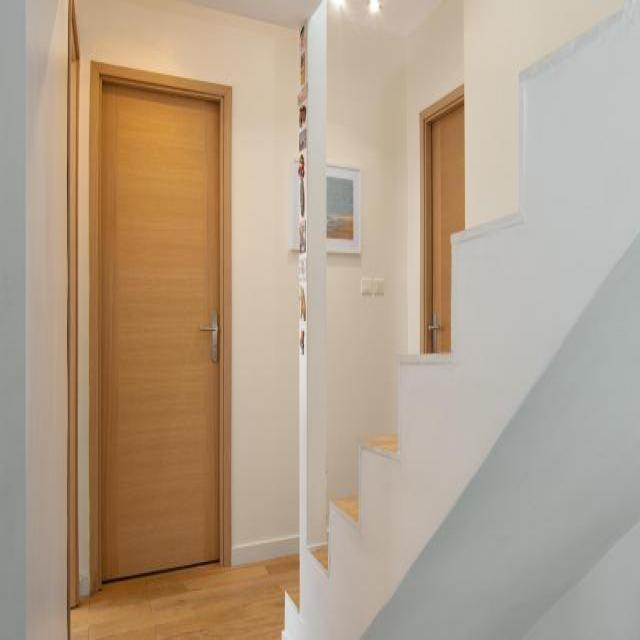door: (86, 60, 232, 597), (416, 82, 469, 354)
